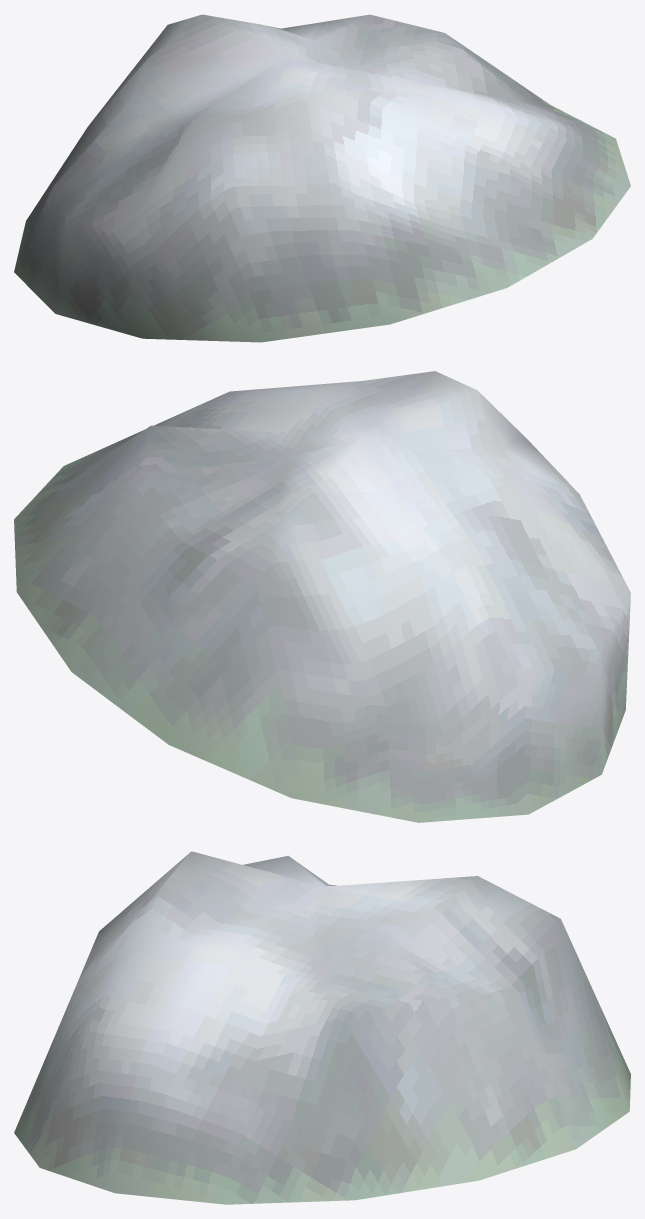
File: TROLLHOLE02_STONEA11.fbx
The picture shows the model from 3 angles, top to bottom: view 1: azimuth 30°, elevation 25°; view 2: azimuth 150°, elevation 25°; view 3: azimuth 270°, elevation 25°; orthographic projection. The views are drawn at different scales.
Parts seen in each view (by area): view 1: TROLLHOLE02_STONEA11; view 2: TROLLHOLE02_STONEA11; view 3: TROLLHOLE02_STONEA11.
Boxes of the visible parts, x1,y1,x2,y2 form: TROLLHOLE02_STONEA11: (14,14,630,342); TROLLHOLE02_STONEA11: (14,371,630,822); TROLLHOLE02_STONEA11: (14,851,630,1204).
Size of the model in its own units: 12467 by 5343 by 10993.
1 material, 1 textured.
